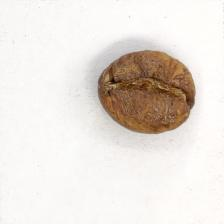NG: (102, 53, 190, 121)
